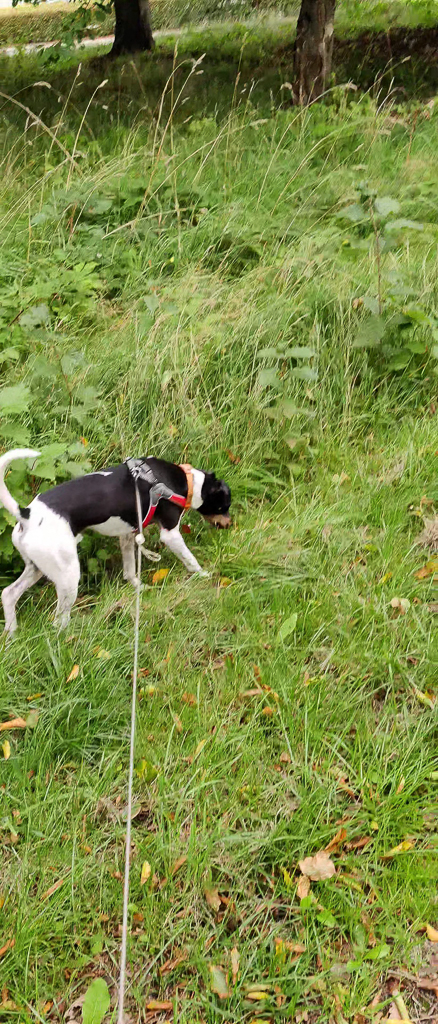Dog: (0, 426, 253, 651)
